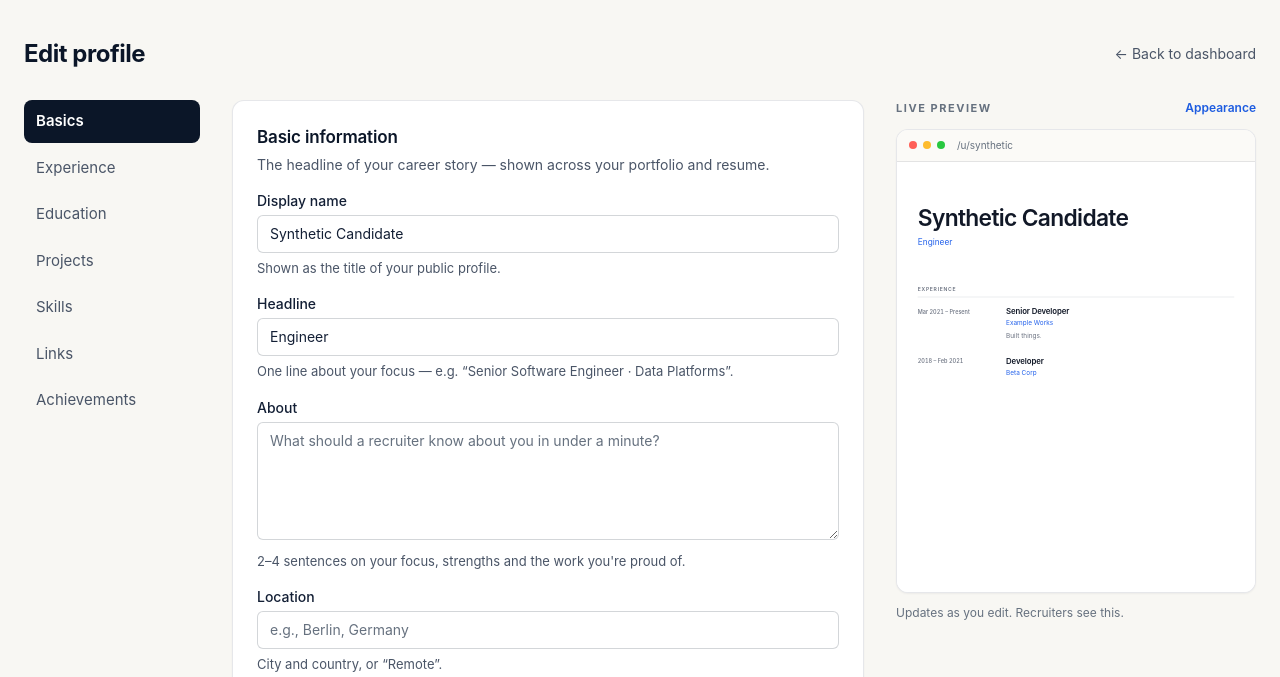
ProfileEditor existing records › opens an inline editor when Edit is pressed
Click the button "Experience": (112, 168) [24,146,200,189]
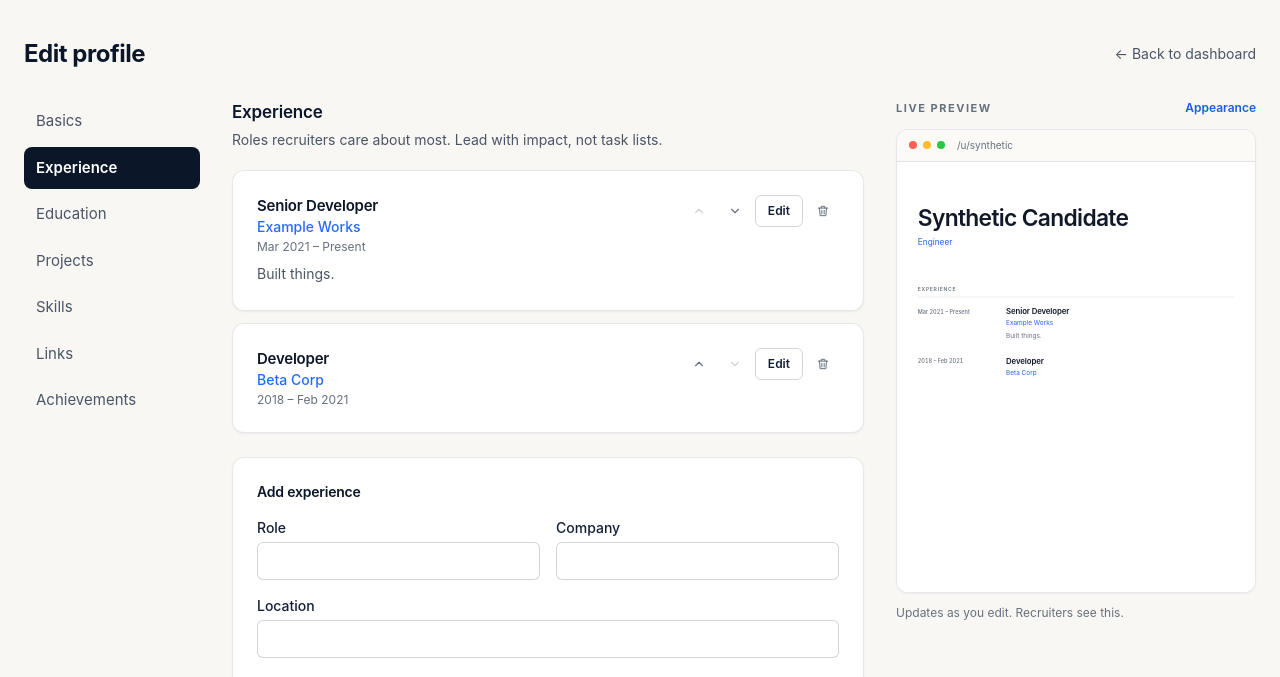
Click the 1st button "Edit": (779, 210) [755,194,803,226]
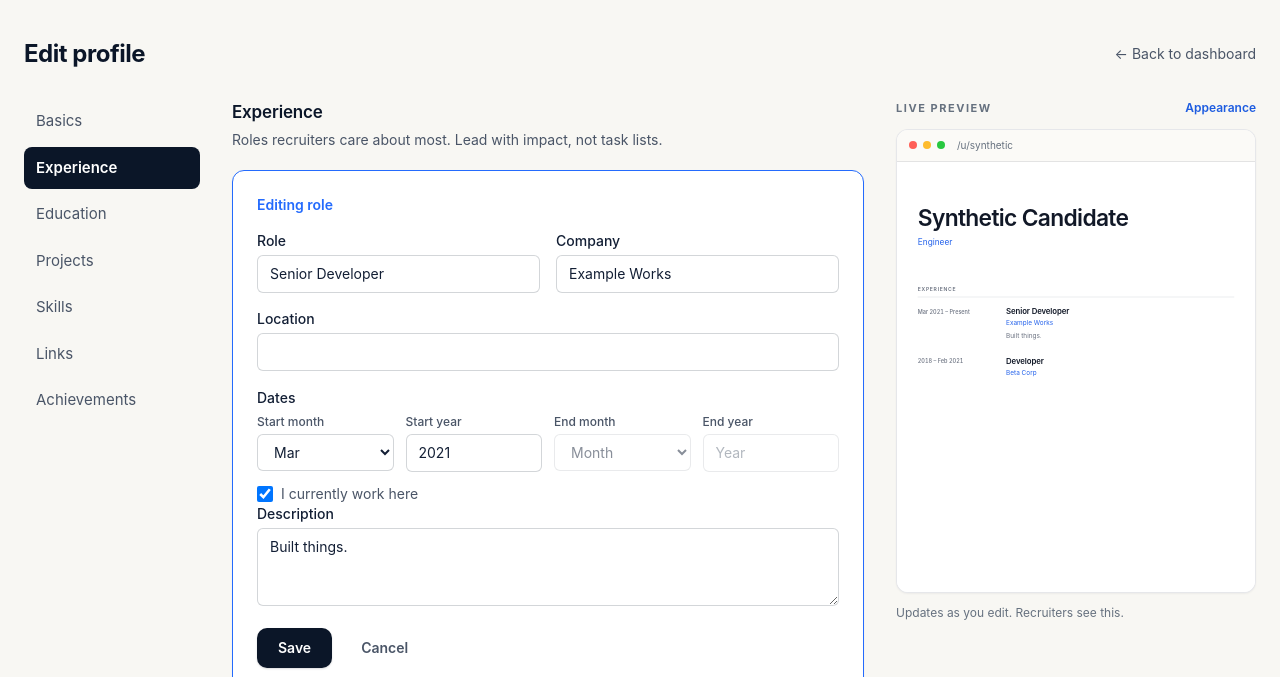
Check: the text "Editing role" is shown, box [257,196,333,212]
Check: the button "Cancel" is shown, box [340,628,429,668]
Check: the field showing "Senior Developer" is shown, box [257,254,540,292]
